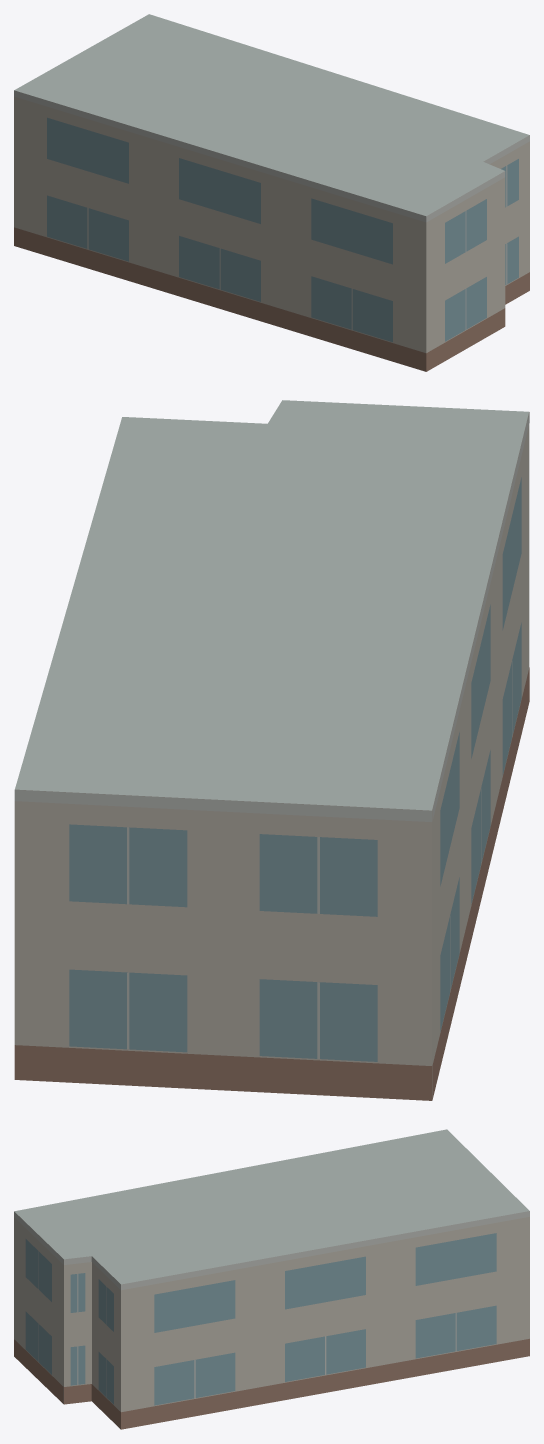
File: survey-upis-32492368.glb
3 renders of one model, top to bottom at view 1: azimuth 30°, elevation 25°; view 2: azimuth 150°, elevation 25°; view 3: azimuth 270°, elevation 25°, orthographic. The views are drawn at different scales.
Visible parts, largest first — view 1: survey-upis-32492368.tmp; view 2: survey-upis-32492368.tmp; view 3: survey-upis-32492368.tmp.
Boxes of the visible parts, left/top/right/bottom form: survey-upis-32492368.tmp: left=14, top=14, right=529, bottom=371; survey-upis-32492368.tmp: left=14, top=400, right=529, bottom=1100; survey-upis-32492368.tmp: left=14, top=1129, right=529, bottom=1429.
Bounding box in the file's own units: 14 × 6.1 × 19.66.
